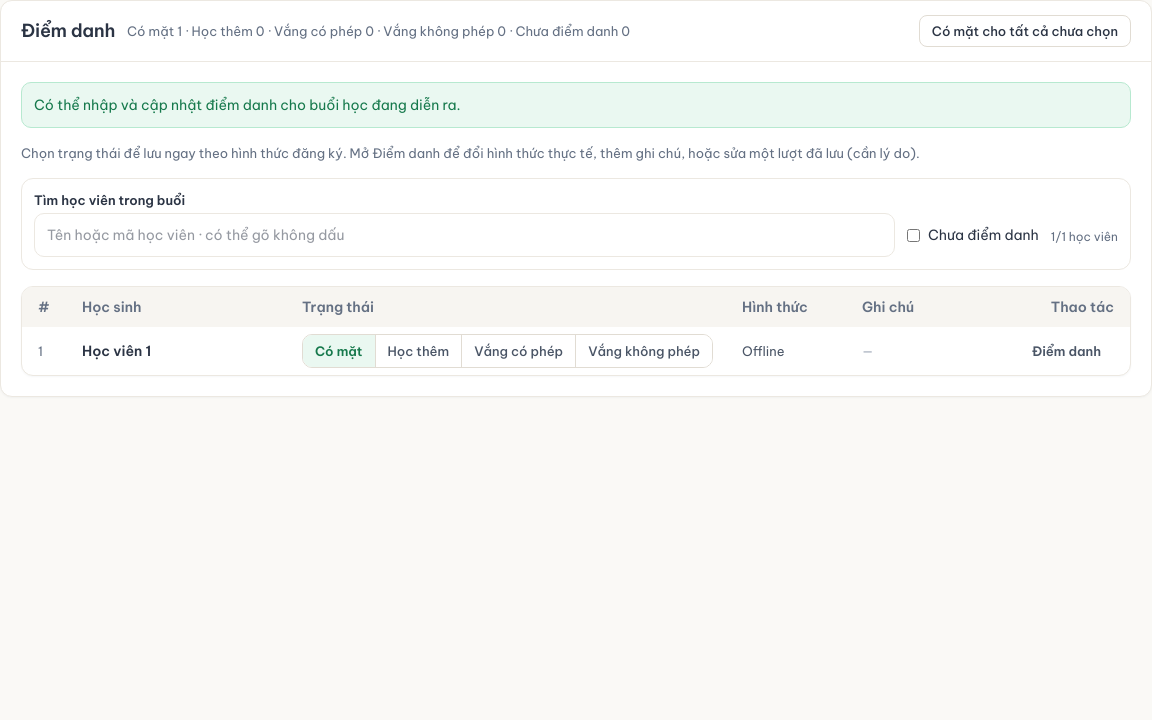
Test: Fast attendance workflow › keeps identity masked in the editor and search
Click the button with aria-label "Điểm danh cho học viên".
click(1066, 351)  # box [1019,335,1114,367]
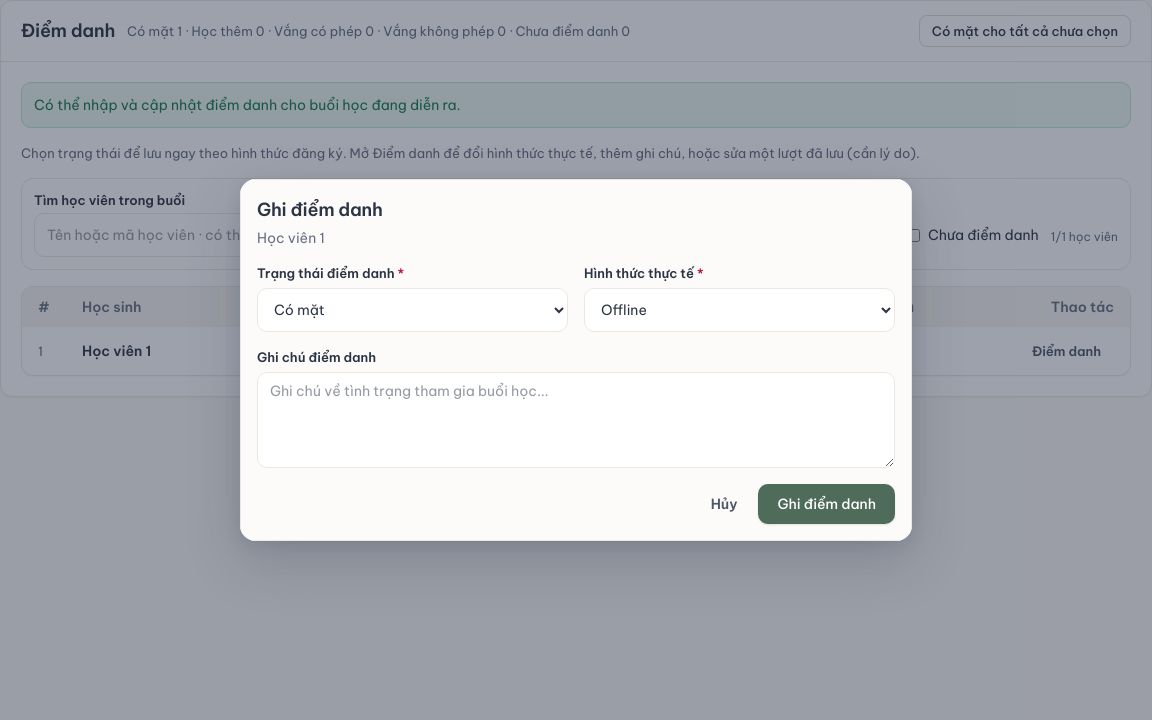
Click the button "Hủy".
click(724, 504)  # box [698,484,750,524]
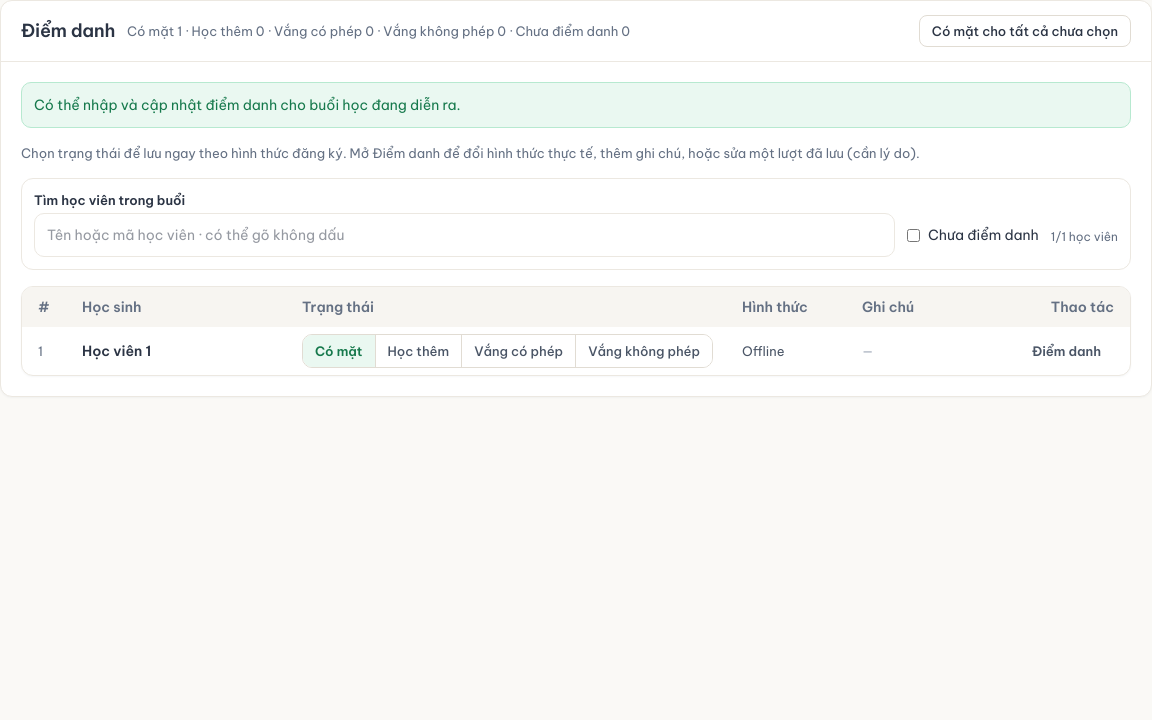
Type "Nguyễn" into the search field.
click(464, 235); type("Nguyễn")  # box [34,213,895,257]
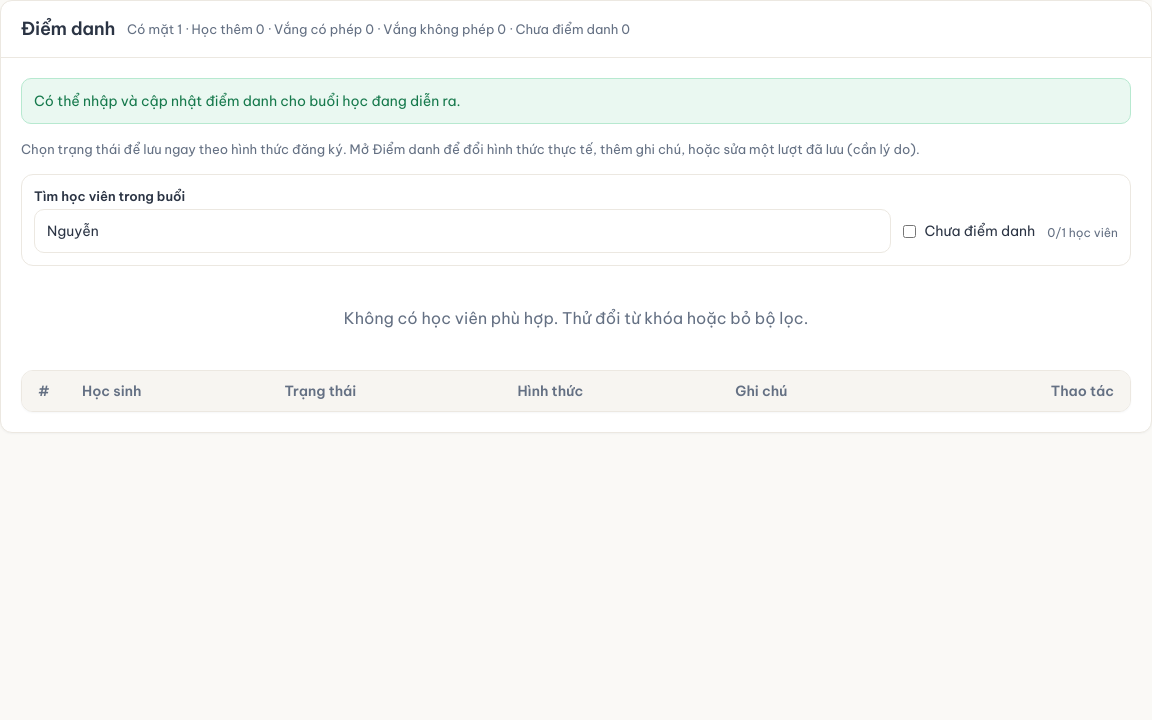
Now the text "Học viên 1" is gone
